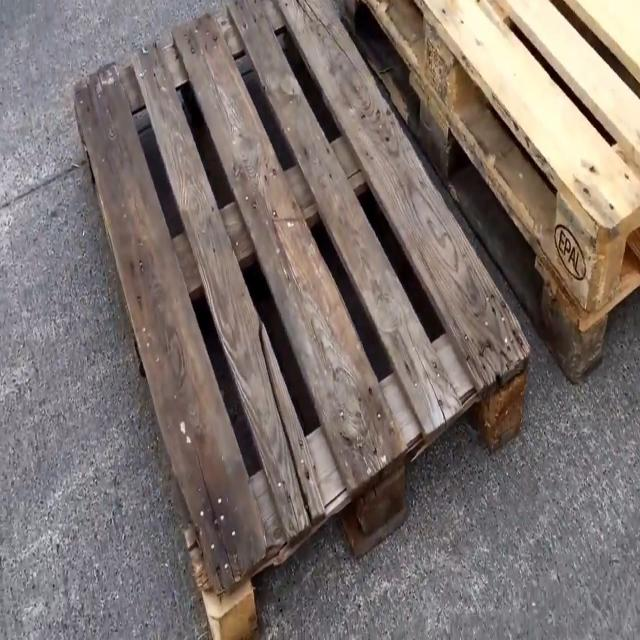Palette: (57, 0, 546, 640), (331, 0, 640, 390)
